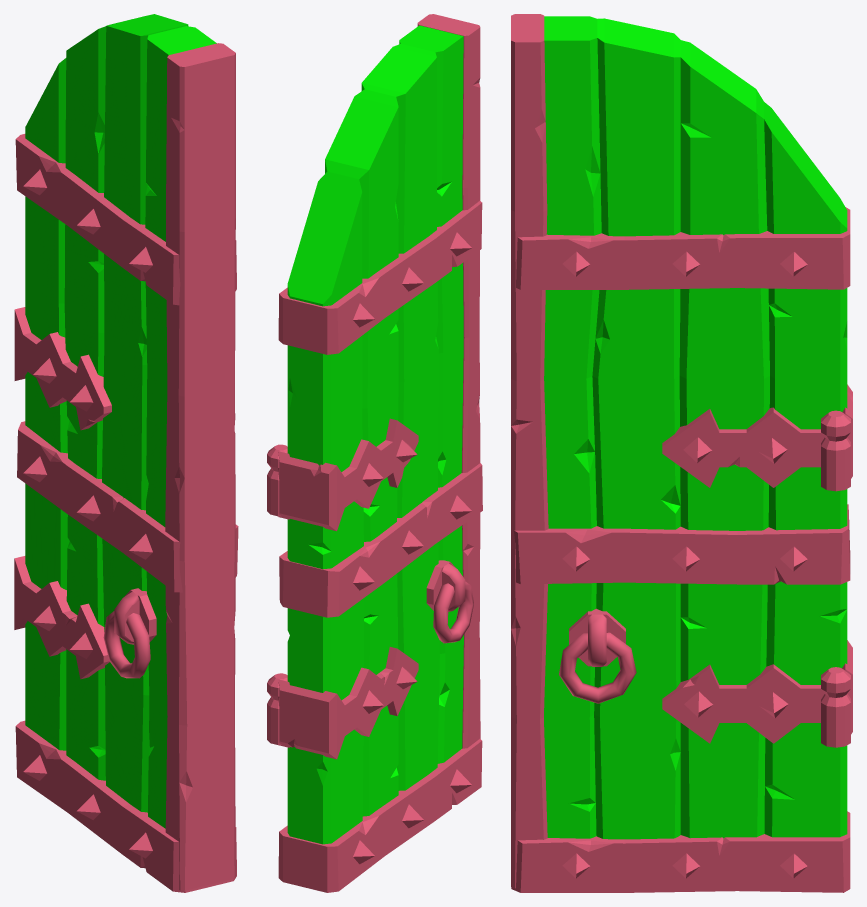
File: SM_Gate_Door_L.fbx
The picture shows the model from 3 angles, left to right: view 1: azimuth 30°, elevation 25°; view 2: azimuth 150°, elevation 25°; view 3: azimuth 270°, elevation 25°; orthographic projection. The views are drawn at different scales.
Visible parts, largest first — view 1: Mesh; view 2: Mesh; view 3: Mesh.
Part boxes in pixels (box(x1,y1,x2,y2)): Mesh: box(14, 14, 238, 892); Mesh: box(267, 14, 482, 892); Mesh: box(511, 14, 852, 892).
Bounding box in the file's own units: 61.35 × 492 × 179.
